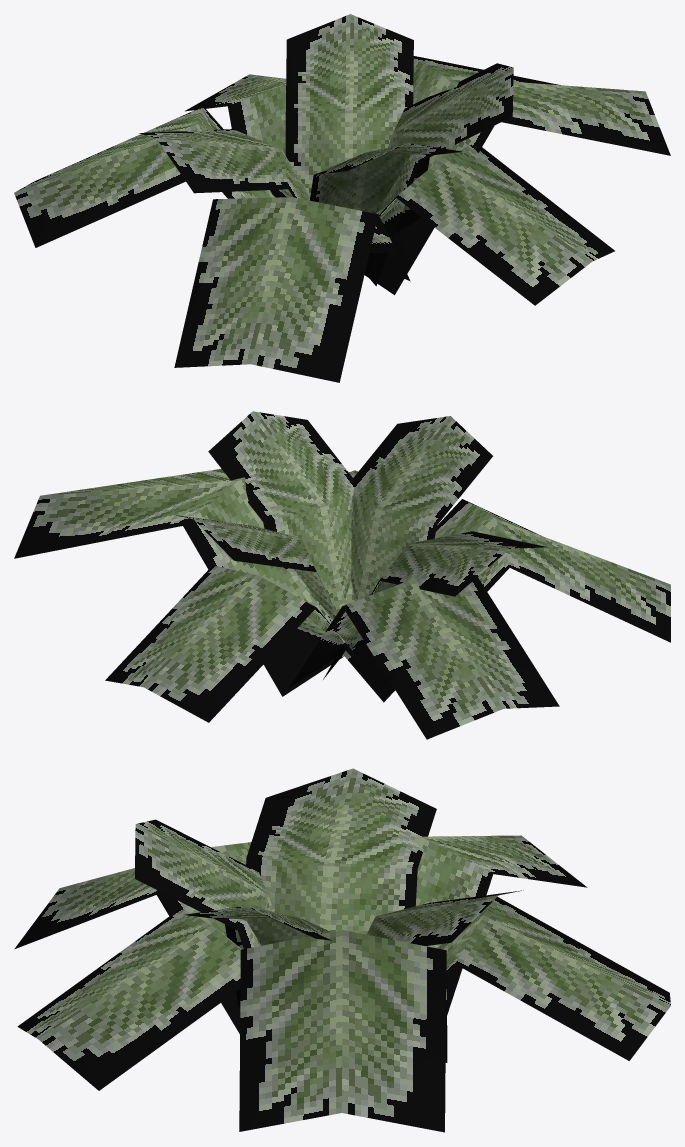
The model's file is sbushtro_1.obj.
The picture shows the model from 3 angles, top to bottom: view 1: azimuth 30°, elevation 25°; view 2: azimuth 150°, elevation 25°; view 3: azimuth 270°, elevation 25°; orthographic projection. The views are drawn at different scales.
Parts seen in each view (by area): view 1: sbushtro_1; view 2: sbushtro_1; view 3: sbushtro_1.
Boxes of the visible parts, <box> form: sbushtro_1: <box>14,14,670,382</box>; sbushtro_1: <box>14,411,670,739</box>; sbushtro_1: <box>14,768,670,1132</box>.
Size of the model in its own units: 3.86 by 1.29 by 3.4.
